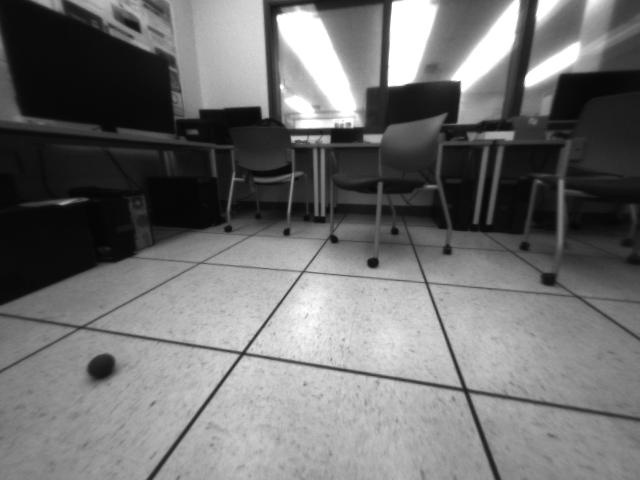dogtoy: (83, 345, 126, 386)
